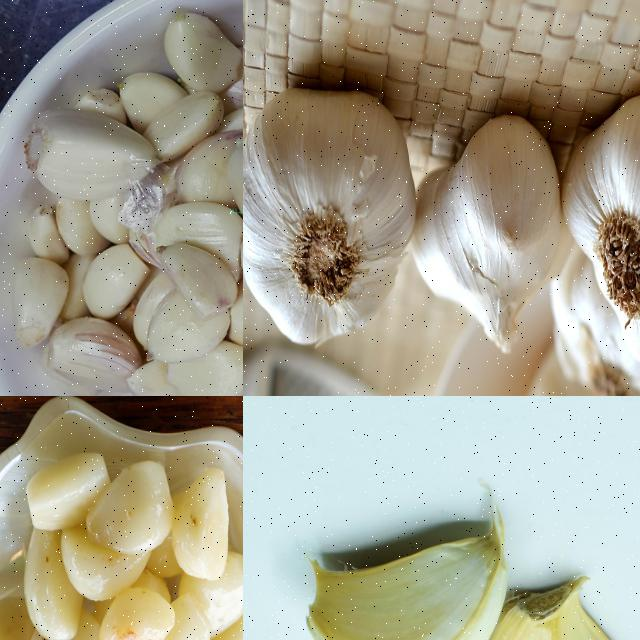garlic: (11, 0, 242, 395), (243, 80, 423, 354), (405, 98, 578, 356), (0, 456, 242, 639), (300, 530, 522, 639), (562, 94, 639, 372), (478, 567, 639, 639)
